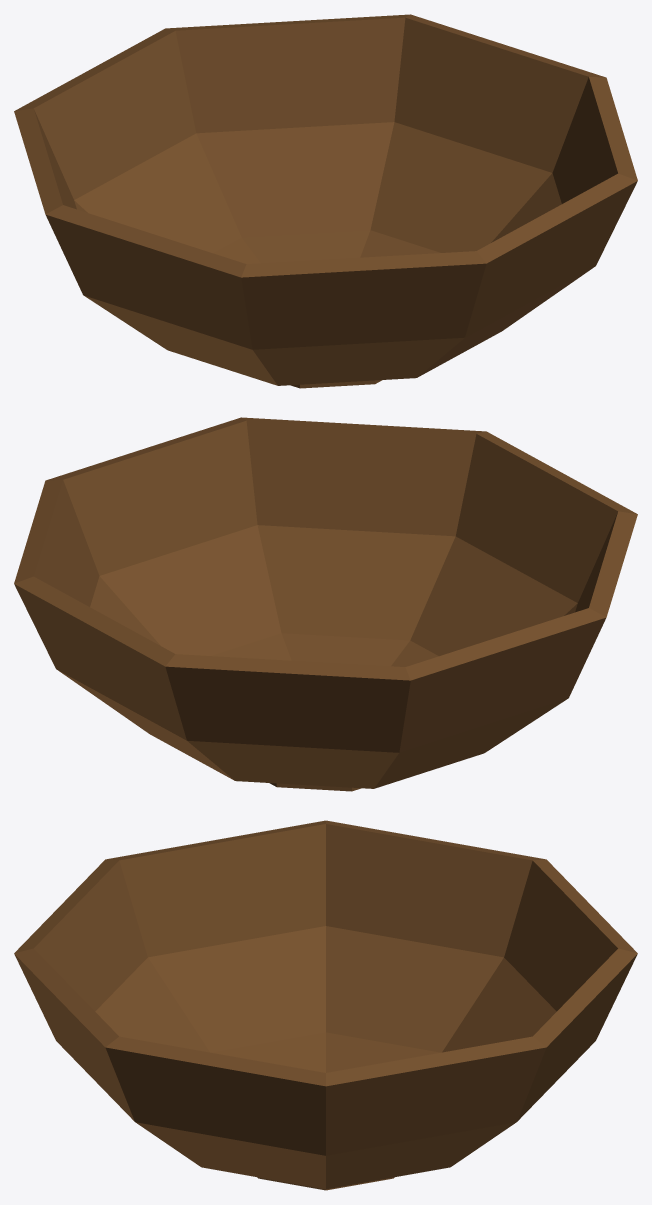
Rendered from bowl.glb.
The picture shows the model from 3 angles, top to bottom: view 1: azimuth 30°, elevation 25°; view 2: azimuth 150°, elevation 25°; view 3: azimuth 270°, elevation 25°; orthographic projection. The views are drawn at different scales.
Visible parts, largest first — view 1: Circle; view 2: Circle; view 3: Circle.
Part boxes in pixels (box(x1,y1,x2,y2)): Circle: box(14, 14, 637, 388); Circle: box(14, 417, 637, 791); Circle: box(14, 820, 637, 1190).
Size of the model in its own units: 2.46 by 0.868 by 2.44.
